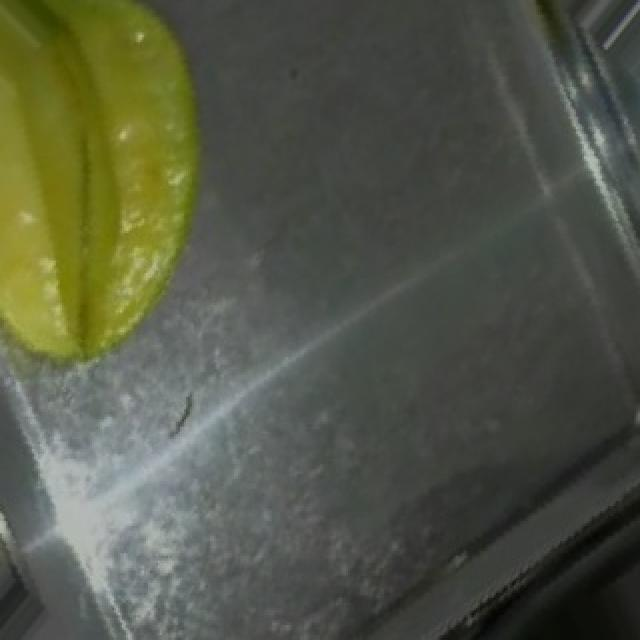fruit: (0, 0, 284, 335)
